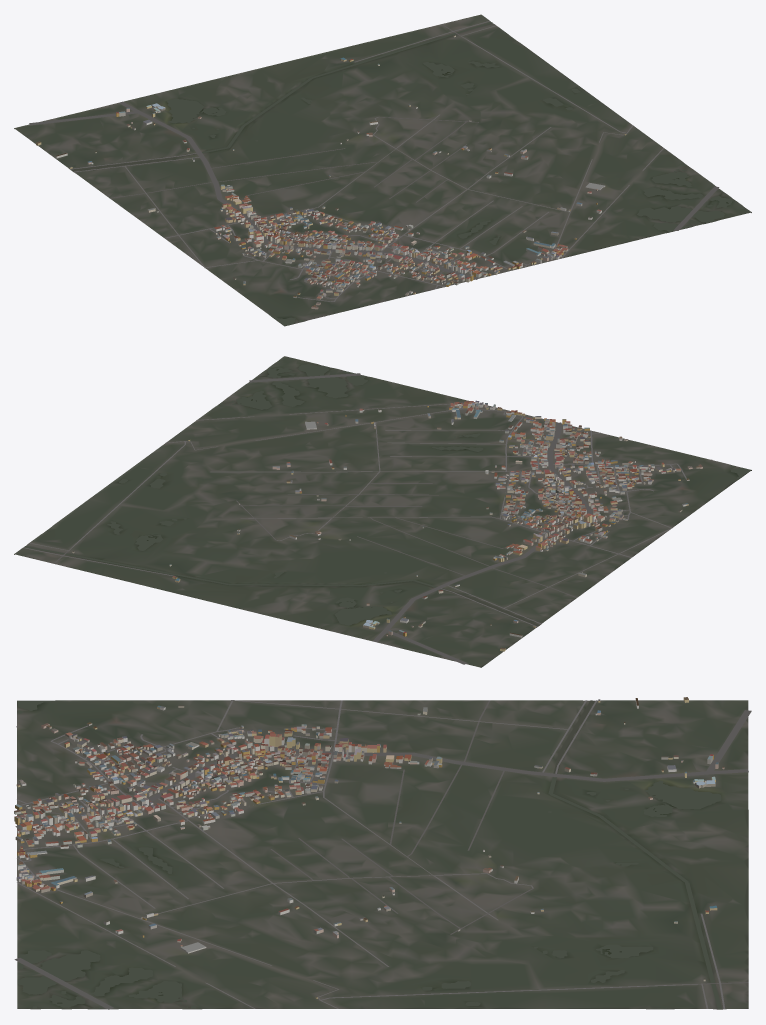
The picture shows the model from 3 angles, top to bottom: view 1: azimuth 30°, elevation 25°; view 2: azimuth 150°, elevation 25°; view 3: azimuth 270°, elevation 25°; orthographic projection. The views are drawn at different scales.
Parts seen in each view (by area): view 1: ground, buildings, roads, water; view 2: ground, buildings, roads, water; view 3: ground, buildings, roads, water.
Part boxes in pixels (x1,y1,x2,y2): ground: (14, 14, 751, 326); buildings: (36, 35, 626, 309); roads: (29, 21, 719, 316); water: (71, 22, 745, 325); ground: (14, 356, 751, 667); buildings: (72, 400, 702, 651); roads: (23, 373, 712, 664); water: (24, 360, 750, 626); ground: (17, 700, 748, 1009); buildings: (14, 697, 724, 998); roads: (14, 700, 751, 1009); water: (17, 700, 721, 1009).
Bounding box in the file's own units: 1405 × 26.76 × 1415.
